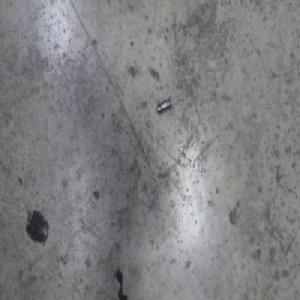Bolt: (156, 98, 171, 117)
